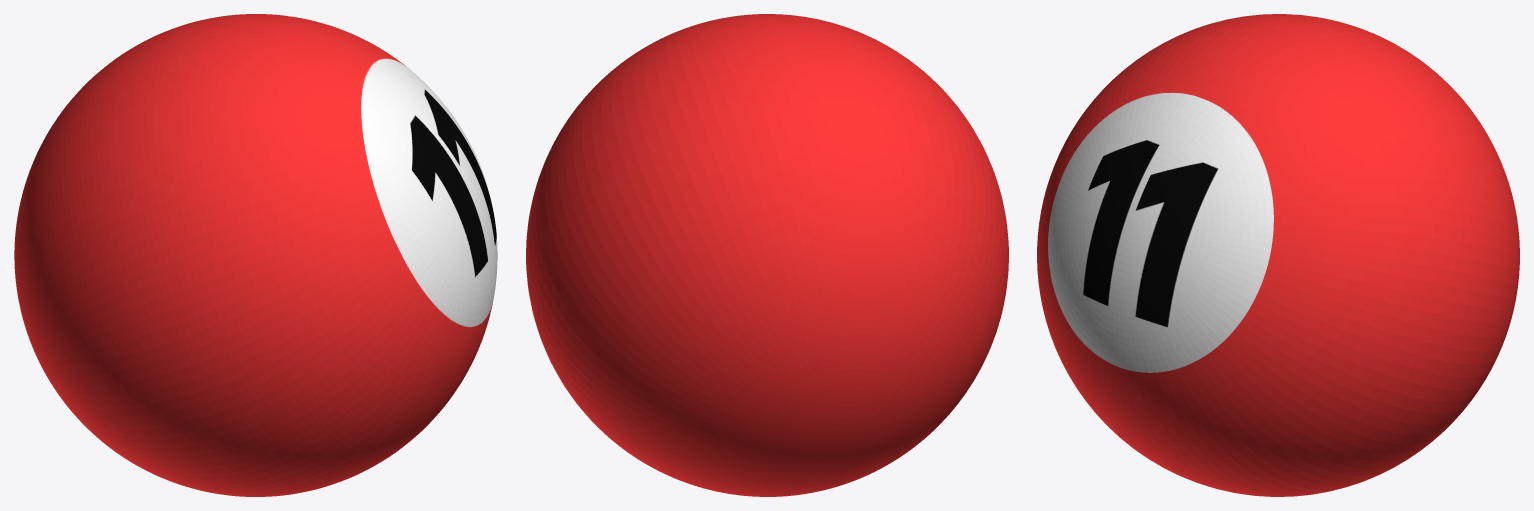
The picture shows the model from 3 angles, left to right: view 1: azimuth 30°, elevation 25°; view 2: azimuth 150°, elevation 25°; view 3: azimuth 270°, elevation 25°; orthographic projection.
Parts seen in each view (by area): view 1: Sphere; view 2: Sphere; view 3: Sphere.
Part boxes in pixels (x1,y1,x2,y2): Sphere: [14, 14, 497, 496]; Sphere: [526, 14, 1008, 496]; Sphere: [1037, 14, 1519, 496].
Size of the model in its own units: 3.7 by 3.7 by 3.7.
Materials: 1 (1 with a texture image).
